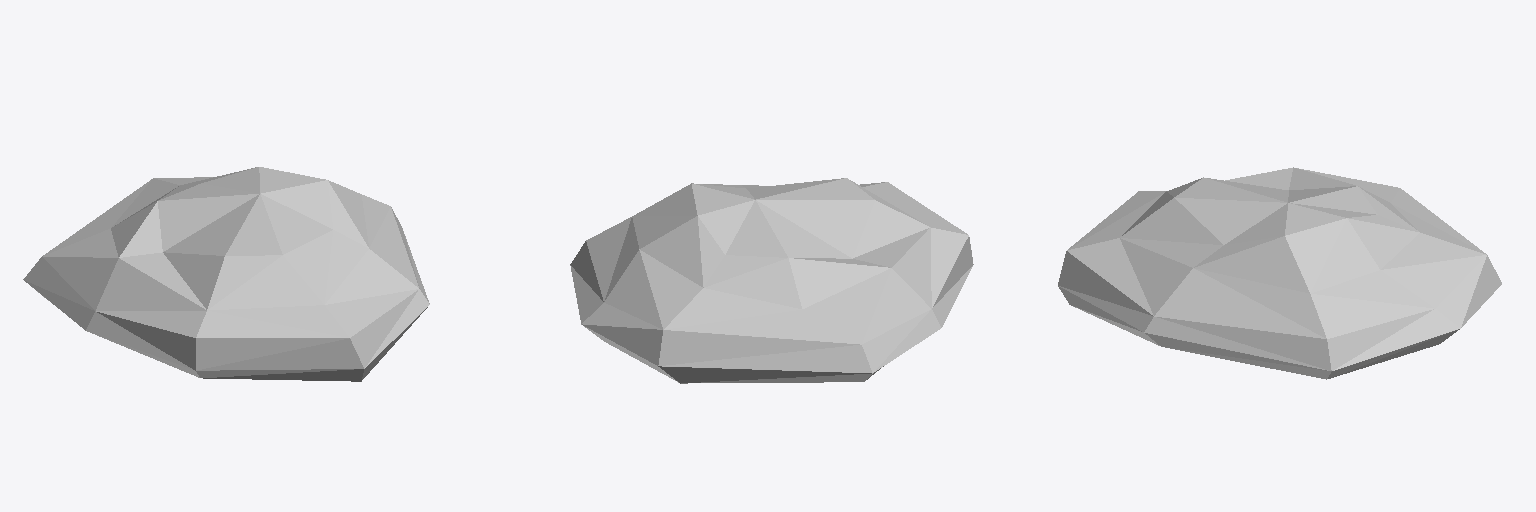
The model's file is hill.obj.
The picture shows the model from 3 angles: view 1: azimuth 30°, elevation 25°; view 2: azimuth 150°, elevation 25°; view 3: azimuth 270°, elevation 25°; orthographic projection.
Visible parts, largest first — view 1: hill; view 2: hill; view 3: hill.
Boxes of the visible parts, x1=… form: hill: x1=23, y1=167, x2=429, y2=381; hill: x1=570, y1=178, x2=973, y2=383; hill: x1=1058, y1=167, x2=1501, y2=379.
Bounding box in the file's own units: 1.75 × 0.5579 × 1.96.